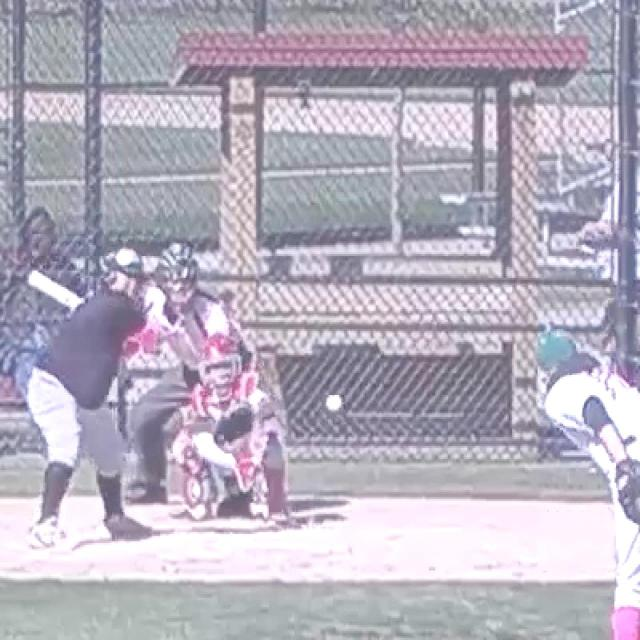baseball: (326, 396, 342, 410)
